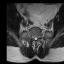CCS_severe_stenosis: (35, 34, 36, 42)
LFS_stenosis: (38, 33, 40, 39)
LLS_normal: (36, 34, 38, 41)
RFS_normal: (31, 33, 33, 40)
RLS_normal: (33, 34, 35, 41)
